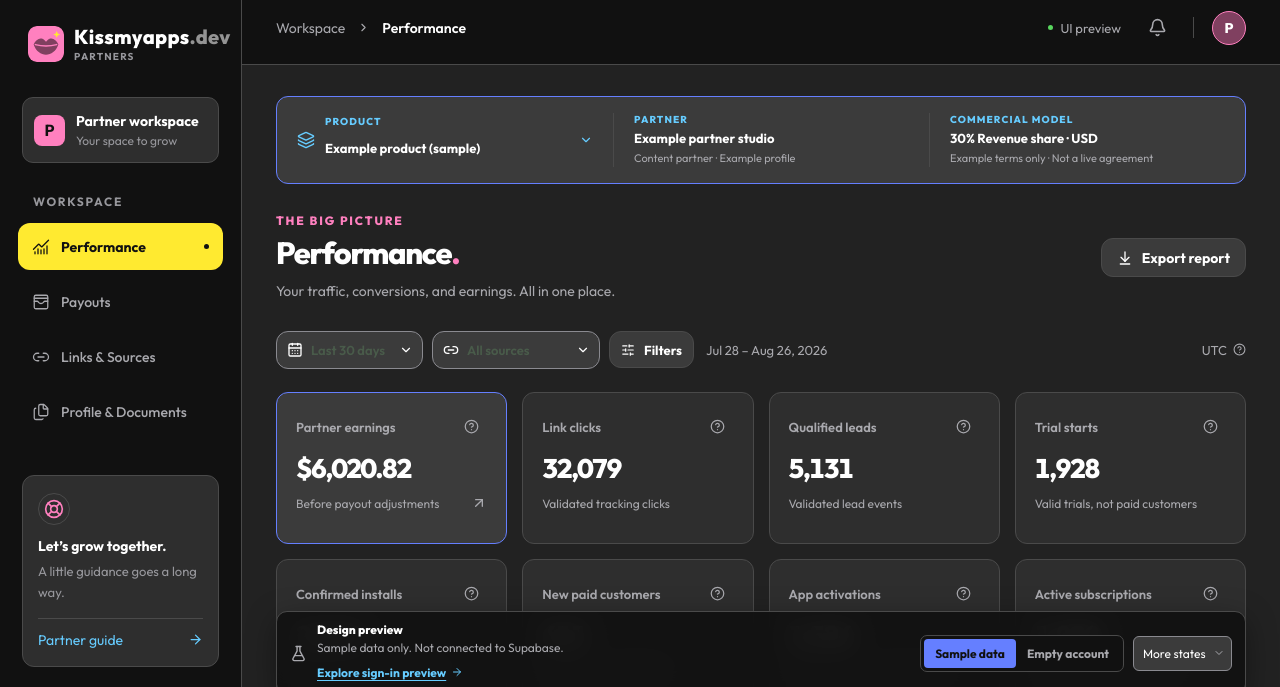
Test: partner workspace preview › supports an empty account without inventing a product, funnel, or live link
Click the button "Empty account" at (1068, 653), box [1016,638,1120,668]
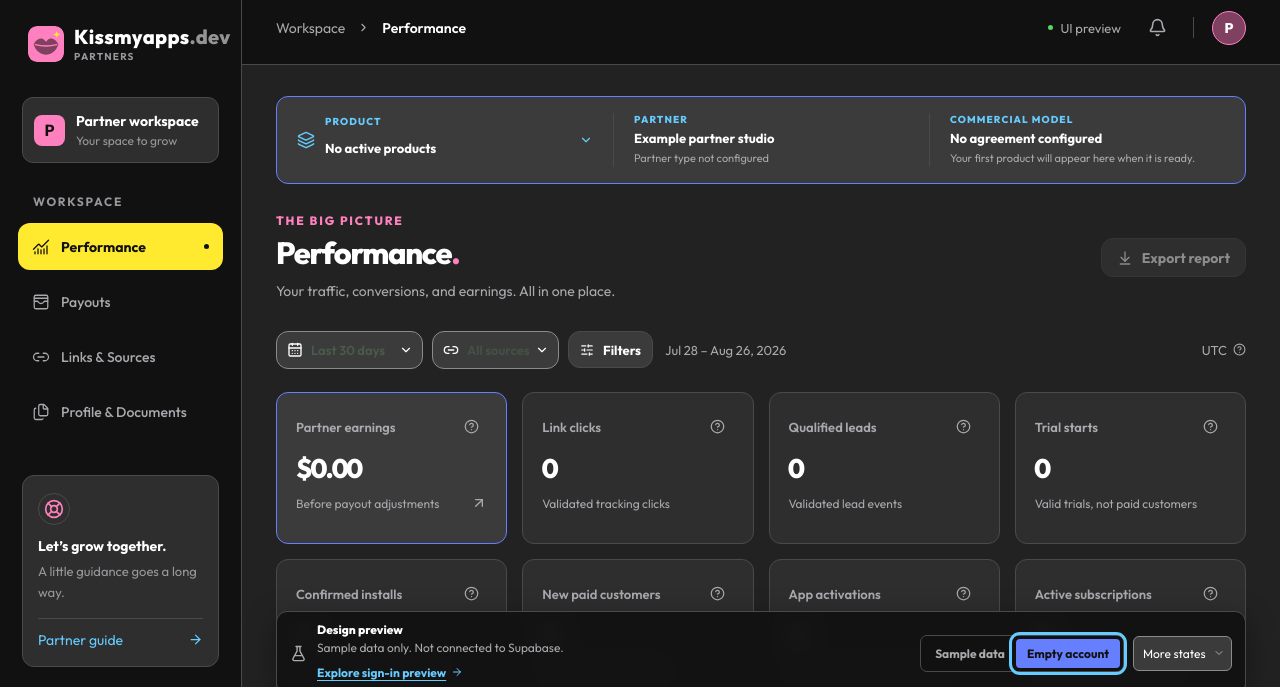
Check: the button "Export report" is disabled, box [1101,238,1246,277]
Click the link "Links & Sources" at (94, 356), box [32,348,155,366]
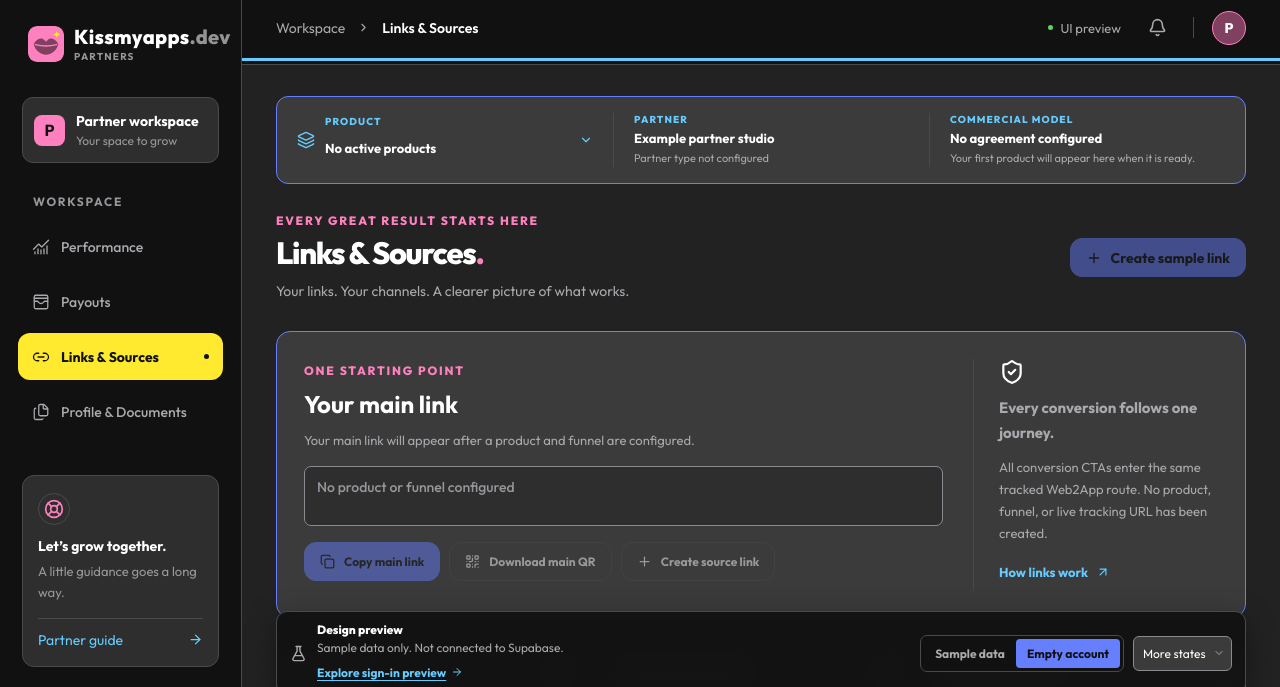
Check: the button "Create sample link" is disabled, box [1070,238,1246,277]
Click the link "Payouts" at (71, 302), box [32,292,110,310]
(page scrolled)
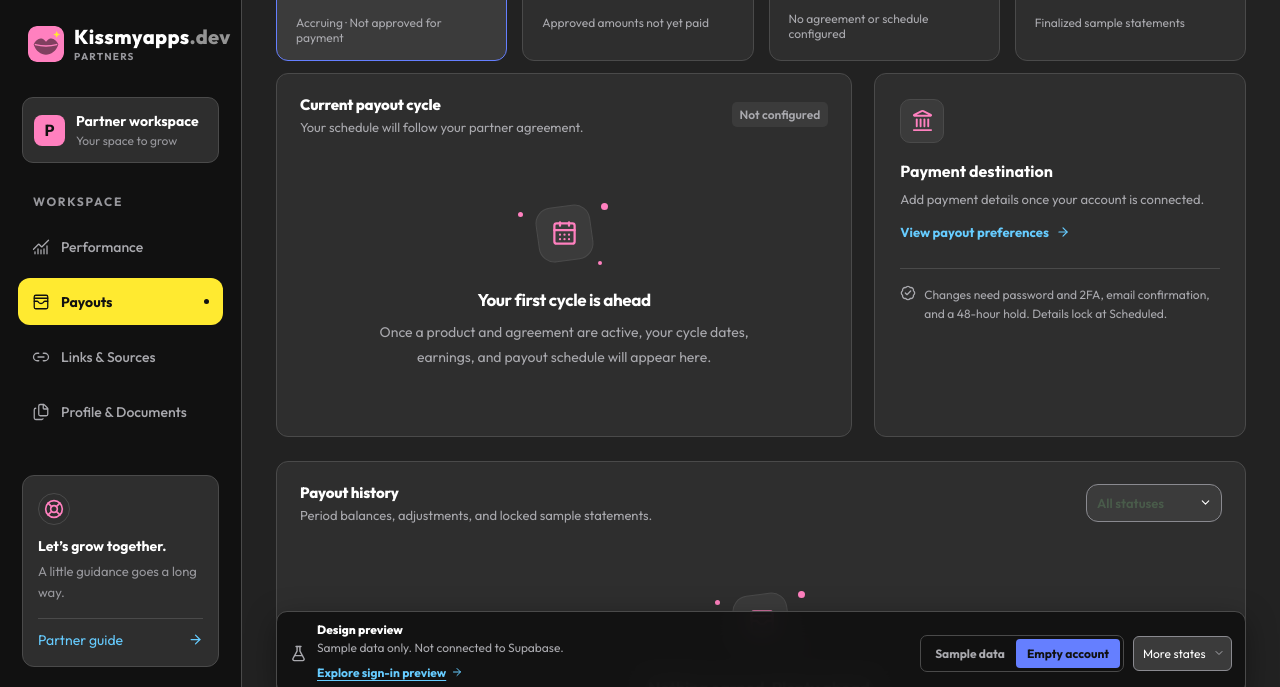
Check: the heading "Your first cycle is ahead" is shown, box [478,289,651,310]
